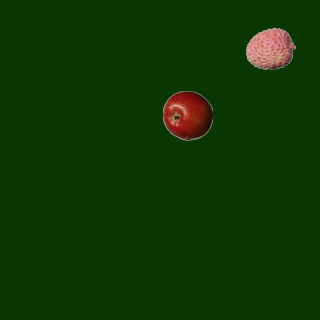Apple Braeburn: (162, 90, 212, 140)
Lychee: (245, 23, 295, 73)
